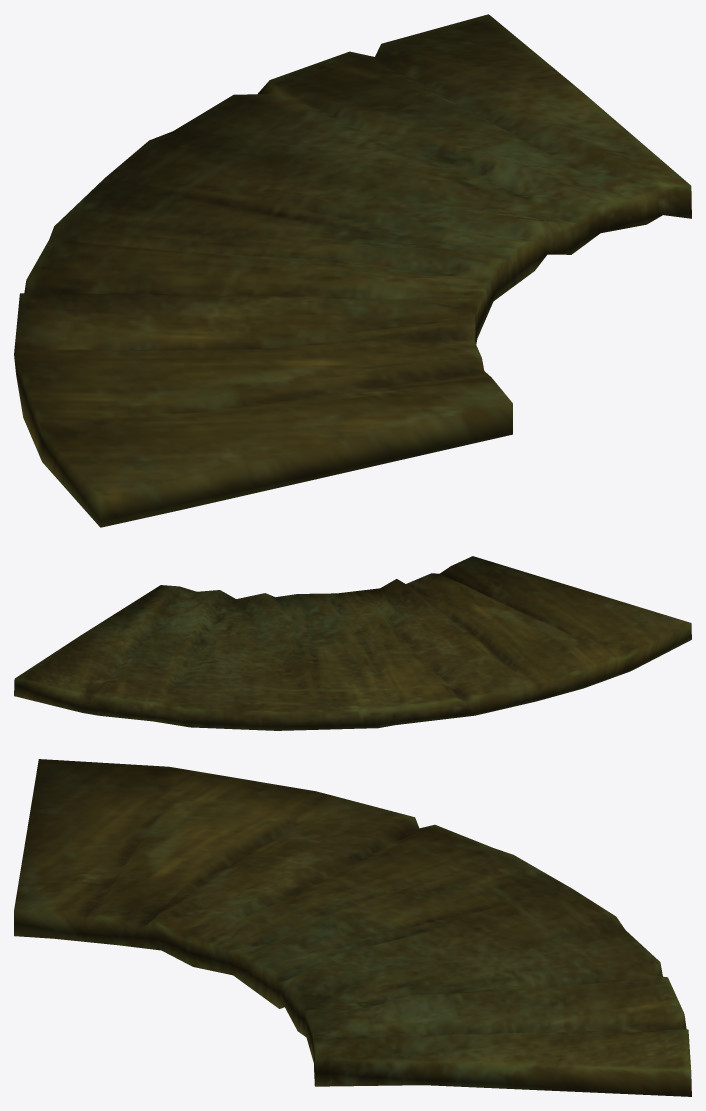
The model's file is SM_quarter_platform_02.fbx.
The picture shows the model from 3 angles, top to bottom: view 1: azimuth 30°, elevation 25°; view 2: azimuth 150°, elevation 25°; view 3: azimuth 270°, elevation 25°; orthographic projection. The views are drawn at different scales.
Visible parts, largest first — view 1: quarter_platform_02; view 2: quarter_platform_02; view 3: quarter_platform_02.
Part boxes in pixels (<box>): quarter_platform_02: <box>14,14,691,527</box>; quarter_platform_02: <box>14,556,691,730</box>; quarter_platform_02: <box>14,759,691,1096</box>.
Bounding box in the file's own units: 851 × 53.09 × 774.
